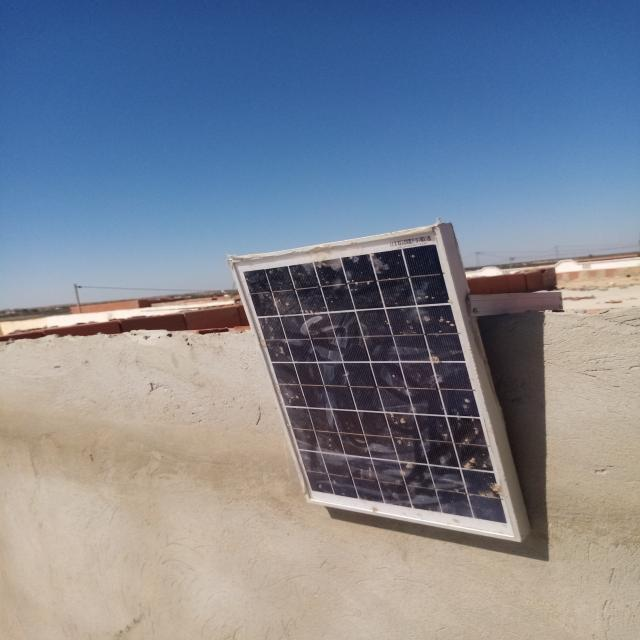faulty: (229, 227, 521, 538)
